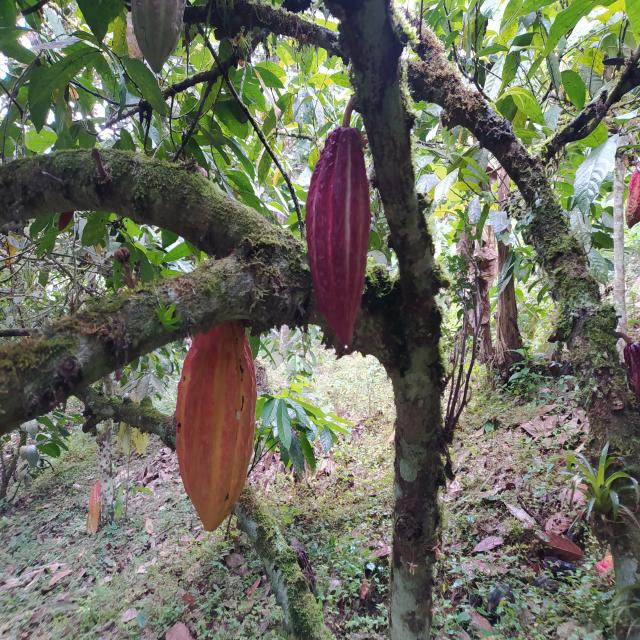Sana: (175, 314, 258, 534), (304, 122, 370, 350), (132, 0, 187, 73), (623, 333, 640, 397), (626, 167, 640, 230)
